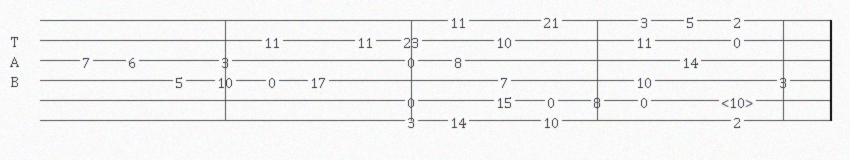0: (268, 73, 280, 87), (407, 53, 419, 67), (407, 93, 419, 107), (547, 93, 559, 107), (640, 93, 652, 107), (733, 33, 745, 47)
10: (217, 73, 237, 87), (496, 33, 516, 47), (543, 113, 563, 127), (636, 73, 656, 87)
11: (264, 33, 284, 47), (357, 33, 377, 47), (450, 13, 470, 27), (636, 33, 656, 47)
14: (450, 113, 470, 127), (682, 53, 702, 67)
15: (496, 93, 516, 108)
17: (310, 73, 330, 87)
2: (733, 13, 745, 27), (733, 113, 745, 127)
21: (543, 13, 563, 27)
23: (403, 33, 423, 47)
3: (221, 53, 233, 67), (407, 113, 419, 127), (640, 13, 652, 27), (779, 73, 791, 87)
5: (175, 73, 187, 88), (686, 13, 698, 28)
6: (128, 53, 140, 67)
7: (82, 53, 94, 67), (500, 73, 512, 87)
8: (454, 53, 466, 67), (593, 93, 605, 107)
harmonic: (721, 93, 757, 107)
